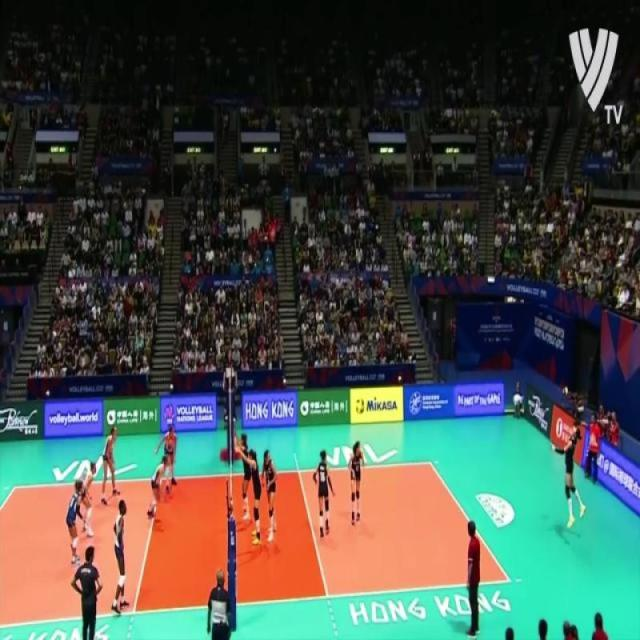volleyball: (355, 397, 365, 415), (562, 387, 570, 398)
